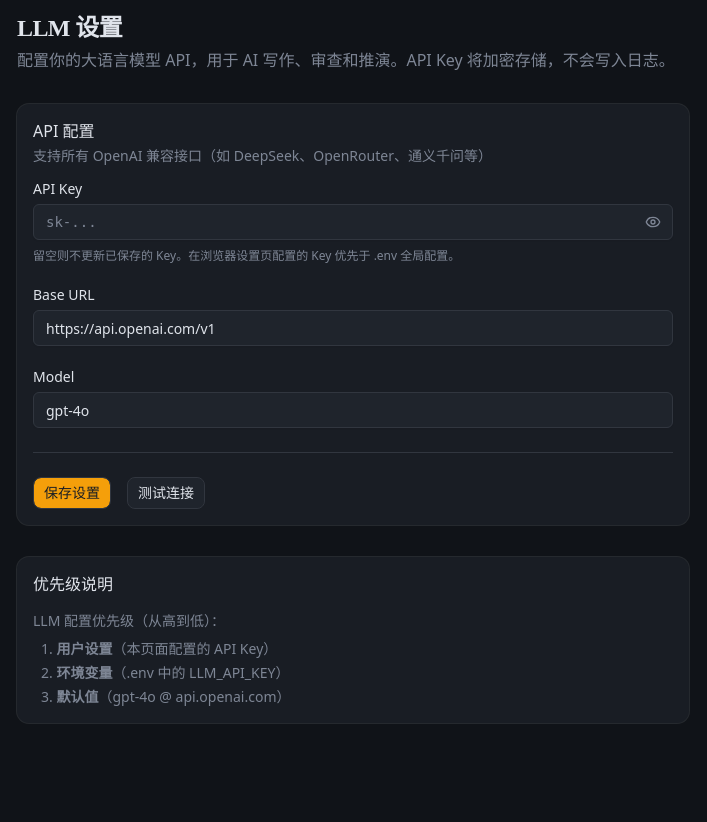
SettingsPage › shows test result on success
Click the button "测试连接".
click(166, 493)  # box left=127, top=477, right=205, bottom=509
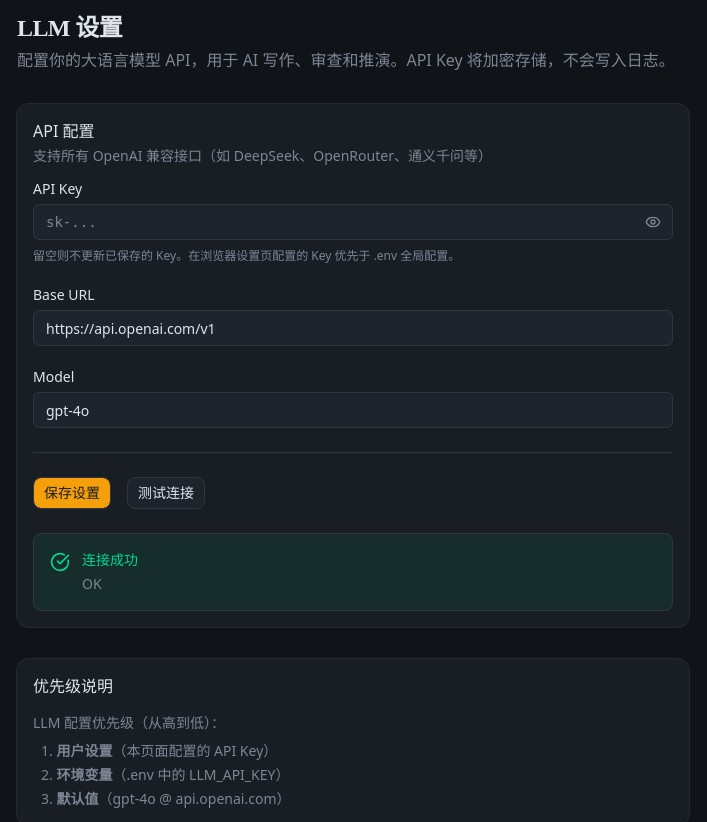
Now the text "连接成功" is shown, box left=82, top=550, right=138, bottom=570
